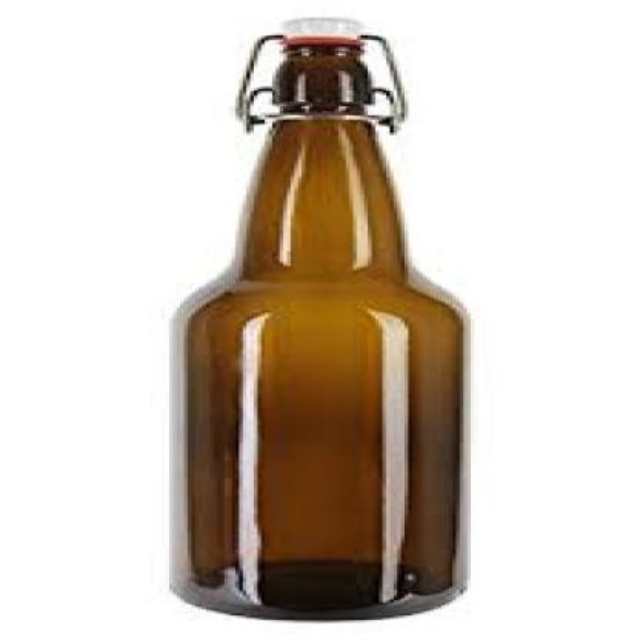trash: (172, 18, 465, 617)
